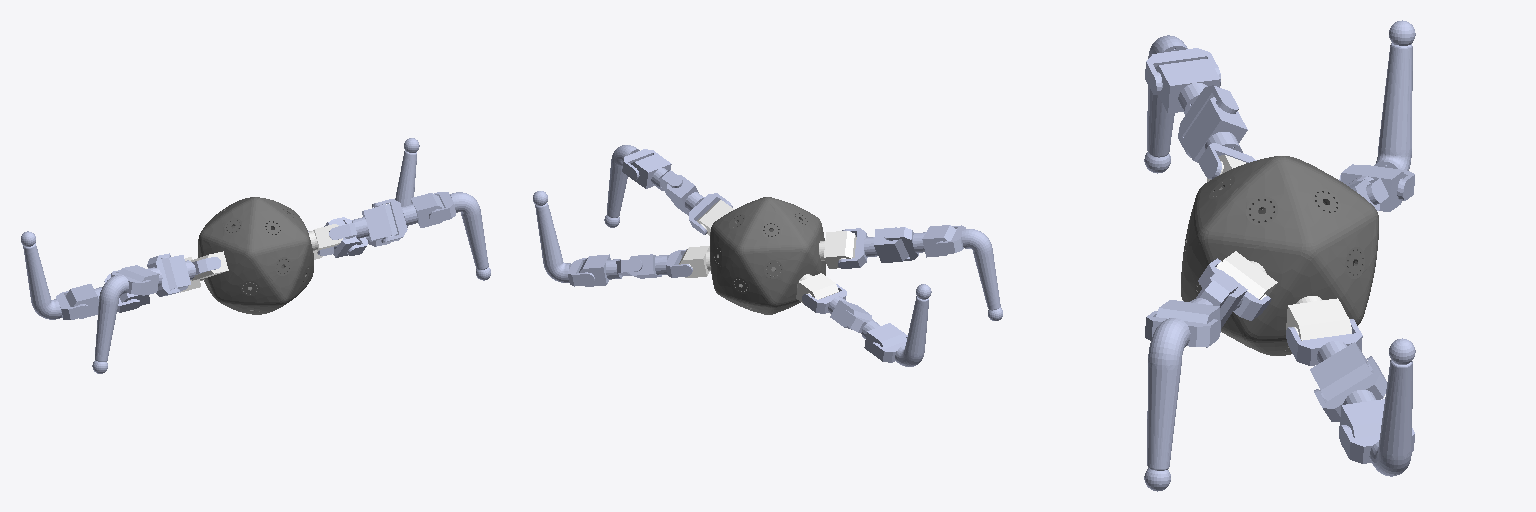
robot.urdf — mod_test:
<?xml version="1.0" encoding="utf-8"?>
<robot
  name="mod_test">
  <link
    name="base_link">
    <inertial>
      <origin
        xyz="-1.5226495220944E-06 1.5812928362389E-07 -5.05247252856584E-07"
        rpy="0 0 0" />
      <mass
        value="0.422806992949252" />
      <inertia
        ixx="0.00237499139253511"
        ixy="1.5717831530364E-08"
        ixz="1.49286265366169E-08"
        iyy="0.00237502154661776"
        iyz="-2.02154172619351E-08"
        izz="0.00237502595466009" />
    </inertial>
    <visual>
      <origin
        xyz="0 0 0"
        rpy="0 0 0" />
      <geometry>
        <mesh
          filename="package://meshes/base_link.STL" />
      </geometry>
      <material
        name="">
        <color
          rgba="0.498039215686275 0.498039215686275 0.498039215686275 1" />
      </material>
    </visual>
    <collision>
      <origin
        xyz="0 0 0"
        rpy="0 0 0" />
      <geometry>
        <mesh
          filename="package://meshes/base_link.STL" />
      </geometry>
    </collision>
  </link>
  <link
   name="110">
   <inertial>
      <origin
        xyz="0 0 0.028508"
        rpy="0 0 0" />
      <mass
        value="0.076173" />
      <inertia
        ixx="3.054E-05"
        ixy="0.000000"
        ixz="0.000000"
        iyy="2.1077E-05"
        iyz="0.000000"
        izz="2.1165E-05" />
    </inertial>
    <visual>
      <origin
        xyz="0 0 0"
        rpy="0 0 0" />
      <geometry>
        <mesh
          filename="package://meshes/1.STL" />
      </geometry>
      <material
        name="">
        <color
          rgba="1 1 1 1" />
      </material>
    </visual>
    <collision>
      <origin
        xyz="0 0 0"
        rpy="0 0 0" />
      <geometry>
        <mesh
          filename="package://meshes/1.STL" />
      </geometry>
    </collision>
  </link>
  <joint
    name="body_110"
    type="fixed">
    <origin
        xyz="0.083523 0.027138 -0.016769"
        rpy="3.141593 -1.382126 0.314159" />
    <parent
      link="base_link" />
    <child
      link="110" />
    <axis
      xyz="0 0 0" />
  </joint>
  <link
    name="111">
    <inertial>
      <origin
        xyz="0.060018 -1.4108E-06 1.4108E-06"
        rpy="0 0 0" />
    <mass
        value="0.10689" />
      <inertia
        ixx="3.2684e-05"
        ixy="-2.5662e-09"
        ixz="2.5662e-09"
        iyy="9.1229e-05"
        iyz="4.0975e-06"
        izz="7.7485e-05" />
    </inertial>
    <visual>
      <origin
        xyz="0 0 0"
        rpy="0 0 0" />
      <geometry>
        <mesh
          filename="package://meshes/module1.STL" />
      </geometry>
      <material
        name="">
        <color
          rgba="0.79216 0.81961 0.93333 1" />
      </material>
    </visual>
    <collision>
      <origin
        xyz="0 0 0"
        rpy="0 0 0" />
      <geometry>
        <mesh
          filename="package://meshes/module1.STL" />
      </geometry>
    </collision>
  </link>
  <joint
    name="110_111"
    type="revolute">
    <origin
      xyz="0 0 0.04"
      rpy="-1.558 -1.5708 -0.012835" />
    <parent
      link="110" />
    <child
      link="111" />
    <axis
      xyz="0 0 1" />
    <limit
      lower="-6.28"
      upper="6.28"
      effort="10"
      velocity="100" />
  </joint>
  <link
    name="112">
    <inertial>
      <origin
        xyz="0.060018 -1.4108E-06 1.4108E-06"
        rpy="0 0 0" />
    <mass
        value="0.10689" />
      <inertia
        ixx="3.2684e-05"
        ixy="-2.5662e-09"
        ixz="2.5662e-09"
        iyy="9.1229e-05"
        iyz="-4.0975e-06"
        izz="7.7485e-05" />
    </inertial>
    <visual>
      <origin
        xyz="0 0 0"
        rpy="0 0 0" />
      <geometry>
        <mesh
          filename="package://meshes/module5.STL" />
      </geometry>
      <material
        name="">
        <color
          rgba="0.79216 0.81961 0.93333 1" />
      </material>
    </visual>
    <collision>
      <origin
        xyz="0 0 0"
        rpy="0 0 0" />
      <geometry>
        <mesh
          filename="package://meshes/module5.STL" />
      </geometry>
    </collision>
  </link>
  <joint
    name="111_112"
    type="revolute">
    <origin
      xyz="0.0816 0 0"
      rpy="0.523599 0 0" />
    <parent
      link="111" />
    <child
      link="112" />
    <axis
      xyz="0 0 1" />
    <limit
      lower="-6.28"
      upper="6.28"
      effort="10"
      velocity="100" />
  </joint>
  <link
    name="113">
    <inertial>
      <origin
        xyz="0.051733 -0.042281 -1.3878E-17"
        rpy="0 0 0" />
    <mass
        value="0.12059" />
      <inertia
        ixx="0.00025425"
        ixy="4.8319E-05"
        ixz="0"
        iyy="5.0194E-05"
        iyz="-3.3141E-21"
        izz="0.00027482" />
    </inertial>
    <visual>
      <origin
        xyz="0 0 0"
        rpy="0 0 0" />
      <geometry>
        <mesh
          filename="package://meshes/leg.STL" />
      </geometry>
      <material
        name="">
        <color
          rgba="0.79216 0.81961 0.93333 1" />
      </material>
    </visual>
    <collision>
      <origin
        xyz="0 0 0"
        rpy="0 0 0" />
      <geometry>
        <mesh
          filename="package://meshes/leg.STL" />
      </geometry>
    </collision>
  </link>
  <joint
    name="112_113"
    type="revolute">
    <origin
      xyz="0.0816 0 0"
      rpy="2.617994 0 0" />
    <parent
      link="112" />
    <child
      link="113" />
    <axis
      xyz="0 0 1" />
    <limit
      lower="-6.28"
      upper="6.28"
      effort="10"
      velocity="100" />
  </joint>
  <link
   name="60">
   <inertial>
      <origin
        xyz="0 0 0.028508"
        rpy="0 0 0" />
      <mass
        value="0.076173" />
      <inertia
        ixx="3.054E-05"
        ixy="-0.000000"
        ixz="-0.000000"
        iyy="2.1077E-05"
        iyz="-0.000000"
        izz="2.1165E-05" />
    </inertial>
    <visual>
      <origin
        xyz="0 0 0"
        rpy="0 0 0" />
      <geometry>
        <mesh
          filename="package://meshes/1.STL" />
      </geometry>
      <material
        name="">
        <color
          rgba="1 1 1 1" />
      </material>
    </visual>
    <collision>
      <origin
        xyz="0 0 0"
        rpy="0 0 0" />
      <geometry>
        <mesh
          filename="package://meshes/1.STL" />
      </geometry>
    </collision>
  </link>
  <joint
    name="body_60"
    type="fixed">
    <origin
        xyz="0.083523 -0.027138 0.016769"
        rpy="-1.206006 1.017234 -1.570859" />
    <parent
      link="base_link" />
    <child
      link="60" />
    <axis
      xyz="0 0 0" />
  </joint>
  <link
    name="61">
    <inertial>
      <origin
        xyz="0.060018 -1.4108E-06 1.4108E-06"
        rpy="0 0 0" />
    <mass
        value="0.10689" />
      <inertia
        ixx="3.2684e-05"
        ixy="-2.5662e-09"
        ixz="2.5662e-09"
        iyy="8.4132e-05"
        iyz="-2.1275e-13"
        izz="8.4583e-05" />
    </inertial>
    <visual>
      <origin
        xyz="0 0 0"
        rpy="0 0 0" />
      <geometry>
        <mesh
          filename="package://meshes/module3.STL" />
      </geometry>
      <material
        name="">
        <color
          rgba="0.79216 0.81961 0.93333 1" />
      </material>
    </visual>
    <collision>
      <origin
        xyz="0 0 0"
        rpy="0 0 0" />
      <geometry>
        <mesh
          filename="package://meshes/module3.STL" />
      </geometry>
    </collision>
  </link>
  <joint
    name="60_61"
    type="revolute">
    <origin
      xyz="0 0 0.04"
      rpy="-1.558 -1.5708 -0.012835" />
    <parent
      link="60" />
    <child
      link="61" />
    <axis
      xyz="0 0 1" />
    <limit
      lower="-6.28"
      upper="6.28"
      effort="10"
      velocity="100" />
  </joint>
  <link
    name="62">
    <inertial>
      <origin
        xyz="0.060018 -1.4108E-06 1.4108E-06"
        rpy="0 0 0" />
    <mass
        value="0.10689" />
      <inertia
        ixx="3.2241e-05"
        ixy="3.5298e-07"
        ixz="2.0781e-07"
        iyy="8.5969e-05"
        iyz="-3.9192e-06"
        izz="8.1482e-05" />
    </inertial>
    <visual>
      <origin
        xyz="0 0 0"
        rpy="0 0 0" />
      <geometry>
        <mesh
          filename="package://meshes/module4.STL" />
      </geometry>
      <material
        name="">
        <color
          rgba="0.79216 0.81961 0.93333 1" />
      </material>
    </visual>
    <collision>
      <origin
        xyz="0 0 0"
        rpy="0 0 0" />
      <geometry>
        <mesh
          filename="package://meshes/module4.STL" />
      </geometry>
    </collision>
  </link>
  <joint
    name="61_62"
    type="revolute">
    <origin
      xyz="0.0816 0 0"
      rpy="1.570796 0 0" />
    <parent
      link="61" />
    <child
      link="62" />
    <axis
      xyz="0 0 1" />
    <limit
      lower="-6.28"
      upper="6.28"
      effort="10"
      velocity="100" />
  </joint>
  <link
    name="63">
    <inertial>
      <origin
        xyz="0.051733 -0.042281 -1.3878E-17"
        rpy="0 0 0" />
    <mass
        value="0.12059" />
      <inertia
        ixx="0.00025425"
        ixy="4.8319E-05"
        ixz="0"
        iyy="5.0194E-05"
        iyz="-3.3141E-21"
        izz="0.00027482" />
    </inertial>
    <visual>
      <origin
        xyz="0 0 0"
        rpy="0 0 0" />
      <geometry>
        <mesh
          filename="package://meshes/leg.STL" />
      </geometry>
      <material
        name="">
        <color
          rgba="0.79216 0.81961 0.93333 1" />
      </material>
    </visual>
    <collision>
      <origin
        xyz="0 0 0"
        rpy="0 0 0" />
      <geometry>
        <mesh
          filename="package://meshes/leg.STL" />
      </geometry>
    </collision>
  </link>
  <joint
    name="62_63"
    type="revolute">
    <origin
      xyz="0.0816 0 0"
      rpy="2.094395 0 0" />
    <parent
      link="62" />
    <child
      link="63" />
    <axis
      xyz="0 0 1" />
    <limit
      lower="-6.28"
      upper="6.28"
      effort="10"
      velocity="100" />
  </joint>
  <link
   name="90">
   <inertial>
      <origin
        xyz="0 0 0.028508"
        rpy="0 0 0" />
      <mass
        value="0.076173" />
      <inertia
        ixx="3.054E-05"
        ixy="-0.000000"
        ixz="0.000000"
        iyy="2.1077E-05"
        iyz="-0.000000"
        izz="2.1165E-05" />
    </inertial>
    <visual>
      <origin
        xyz="0 0 0"
        rpy="0 0 0" />
      <geometry>
        <mesh
          filename="package://meshes/1.STL" />
      </geometry>
      <material
        name="">
        <color
          rgba="1 1 1 1" />
      </material>
    </visual>
    <collision>
      <origin
        xyz="0 0 0"
        rpy="0 0 0" />
      <geometry>
        <mesh
          filename="package://meshes/1.STL" />
      </geometry>
    </collision>
  </link>
  <joint
    name="body_90"
    type="fixed">
    <origin
        xyz="-0.083523 -0.027138 0.016769"
        rpy="1.206006 1.017234 -1.570734" />
    <parent
      link="base_link" />
    <child
      link="90" />
    <axis
      xyz="0 0 0" />
  </joint>
  <link
    name="91">
    <inertial>
      <origin
        xyz="0.060018 -1.4108E-06 1.4108E-06"
        rpy="0 0 0" />
    <mass
        value="0.10689" />
      <inertia
        ixx="3.2684e-05"
        ixy="-2.5662e-09"
        ixz="2.5662e-09"
        iyy="8.4132e-05"
        iyz="-2.1275e-13"
        izz="8.4583e-05" />
    </inertial>
    <visual>
      <origin
        xyz="0 0 0"
        rpy="0 0 0" />
      <geometry>
        <mesh
          filename="package://meshes/module9.STL" />
      </geometry>
      <material
        name="">
        <color
          rgba="0.79216 0.81961 0.93333 1" />
      </material>
    </visual>
    <collision>
      <origin
        xyz="0 0 0"
        rpy="0 0 0" />
      <geometry>
        <mesh
          filename="package://meshes/module9.STL" />
      </geometry>
    </collision>
  </link>
  <joint
    name="90_91"
    type="revolute">
    <origin
      xyz="0 0 0.04"
      rpy="-1.558 -1.5708 -0.012835" />
    <parent
      link="90" />
    <child
      link="91" />
    <axis
      xyz="0 0 1" />
    <limit
      lower="-6.28"
      upper="6.28"
      effort="10"
      velocity="100" />
  </joint>
  <link
    name="92">
    <inertial>
      <origin
        xyz="0.060018 -1.4108E-06 1.4108E-06"
        rpy="0 0 0" />
    <mass
        value="0.10689" />
      <inertia
        ixx="3.2684e-05"
        ixy="-2.5662e-09"
        ixz="2.5662e-09"
        iyy="8.6498e-05"
        iyz="4.0975e-06"
        izz="8.2217e-05" />
    </inertial>
    <visual>
      <origin
        xyz="0 0 0"
        rpy="0 0 0" />
      <geometry>
        <mesh
          filename="package://meshes/module8.STL" />
      </geometry>
      <material
        name="">
        <color
          rgba="0.79216 0.81961 0.93333 1" />
      </material>
    </visual>
    <collision>
      <origin
        xyz="0 0 0"
        rpy="0 0 0" />
      <geometry>
        <mesh
          filename="package://meshes/module8.STL" />
      </geometry>
    </collision>
  </link>
  <joint
    name="91_92"
    type="revolute">
    <origin
      xyz="0.0816 0 0"
      rpy="4.712389 0 0" />
    <parent
      link="91" />
    <child
      link="92" />
    <axis
      xyz="0 0 1" />
    <limit
      lower="-6.28"
      upper="6.28"
      effort="10"
      velocity="100" />
  </joint>
  <link
    name="93">
    <inertial>
      <origin
        xyz="0.051733 -0.042281 -1.3878E-17"
        rpy="0 0 0" />
    <mass
        value="0.12059" />
      <inertia
        ixx="0.00025425"
        ixy="4.8319E-05"
        ixz="0"
        iyy="5.0194E-05"
        iyz="-3.3141E-21"
        izz="0.00027482" />
    </inertial>
    <visual>
      <origin
        xyz="0 0 0"
        rpy="0 0 0" />
      <geometry>
        <mesh
          filename="package://meshes/leg.STL" />
      </geometry>
      <material
        name="">
        <color
          rgba="0.79216 0.81961 0.93333 1" />
      </material>
    </visual>
    <collision>
      <origin
        xyz="0 0 0"
        rpy="0 0 0" />
      <geometry>
        <mesh
          filename="package://meshes/leg.STL" />
      </geometry>
    </collision>
  </link>
  <joint
    name="92_93"
    type="revolute">
    <origin
      xyz="0.0816 0 0"
      rpy="4.188790 0 0" />
    <parent
      link="92" />
    <child
      link="93" />
    <axis
      xyz="0 0 1" />
    <limit
      lower="-6.28"
      upper="6.28"
      effort="10"
      velocity="100" />
  </joint>
  <link
   name="130">
   <inertial>
      <origin
        xyz="0 0 0.028508"
        rpy="0 0 0" />
      <mass
        value="0.076173" />
      <inertia
        ixx="3.054E-05"
        ixy="0.000000"
        ixz="0.000000"
        iyy="2.1077E-05"
        iyz="0.000000"
        izz="2.1165E-05" />
    </inertial>
    <visual>
      <origin
        xyz="0 0 0"
        rpy="0 0 0" />
      <geometry>
        <mesh
          filename="package://meshes/1.STL" />
      </geometry>
      <material
        name="">
        <color
          rgba="1 1 1 1" />
      </material>
    </visual>
    <collision>
      <origin
        xyz="0 0 0"
        rpy="0 0 0" />
      <geometry>
        <mesh
          filename="package://meshes/1.STL" />
      </geometry>
    </collision>
  </link>
  <joint
    name="body_130"
    type="fixed">
    <origin
        xyz="-0.083523 0.027138 -0.016769"
        rpy="3.141593 -1.382126 2.827433" />
    <parent
      link="base_link" />
    <child
      link="130" />
    <axis
      xyz="0 0 0" />
  </joint>
  <link
    name="131">
    <inertial>
      <origin
        xyz="0.060018 -1.4108E-06 1.4108E-06"
        rpy="0 0 0" />
    <mass
        value="0.10689" />
      <inertia
        ixx="3.2684e-05"
        ixy="-2.5662e-09"
        ixz="2.5662e-09"
        iyy="9.1229e-05"
        iyz="-4.0975e-06"
        izz="7.7485e-05" />
    </inertial>
    <visual>
      <origin
        xyz="0 0 0"
        rpy="0 0 0" />
      <geometry>
        <mesh
          filename="package://meshes/module11.STL" />
      </geometry>
      <material
        name="">
        <color
          rgba="0.79216 0.81961 0.93333 1" />
      </material>
    </visual>
    <collision>
      <origin
        xyz="0 0 0"
        rpy="0 0 0" />
      <geometry>
        <mesh
          filename="package://meshes/module11.STL" />
      </geometry>
    </collision>
  </link>
  <joint
    name="130_131"
    type="revolute">
    <origin
      xyz="0 0 0.04"
      rpy="-1.558 -1.5708 -0.012835" />
    <parent
      link="130" />
    <child
      link="131" />
    <axis
      xyz="0 0 1" />
    <limit
      lower="-6.28"
      upper="6.28"
      effort="10"
      velocity="100" />
  </joint>
  <link
    name="132">
    <inertial>
      <origin
        xyz="0.060018 -1.4108E-06 1.4108E-06"
        rpy="0 0 0" />
    <mass
        value="0.10689" />
      <inertia
        ixx="3.2684e-05"
        ixy="-2.5662e-09"
        ixz="2.5662e-09"
        iyy="9.1229e-05"
        iyz="4.0975e-06"
        izz="7.7485e-05" />
    </inertial>
    <visual>
      <origin
        xyz="0 0 0"
        rpy="0 0 0" />
      <geometry>
        <mesh
          filename="package://meshes/module7.STL" />
      </geometry>
      <material
        name="">
        <color
          rgba="0.79216 0.81961 0.93333 1" />
      </material>
    </visual>
    <collision>
      <origin
        xyz="0 0 0"
        rpy="0 0 0" />
      <geometry>
        <mesh
          filename="package://meshes/module7.STL" />
      </geometry>
    </collision>
  </link>
  <joint
    name="131_132"
    type="revolute">
    <origin
      xyz="0.0816 0 0"
      rpy="5.759587 0 0" />
    <parent
      link="131" />
    <child
      link="132" />
    <axis
      xyz="0 0 1" />
    <limit
      lower="-6.28"
      upper="6.28"
      effort="10"
      velocity="100" />
  </joint>
  <link
    name="133">
    <inertial>
      <origin
        xyz="0.051733 -0.042281 -1.3878E-17"
        rpy="0 0 0" />
    <mass
        value="0.12059" />
      <inertia
        ixx="0.00025425"
        ixy="4.8319E-05"
        ixz="0"
        iyy="5.0194E-05"
        iyz="-3.3141E-21"
        izz="0.00027482" />
    </inertial>
    <visual>
      <origin
        xyz="0 0 0"
        rpy="0 0 0" />
      <geometry>
        <mesh
          filename="package://meshes/leg.STL" />
      </geometry>
      <material
        name="">
        <color
          rgba="0.79216 0.81961 0.93333 1" />
      </material>
    </visual>
    <collision>
      <origin
        xyz="0 0 0"
        rpy="0 0 0" />
      <geometry>
        <mesh
          filename="package://meshes/leg.STL" />
      </geometry>
    </collision>
  </link>
  <joint
    name="132_133"
    type="revolute">
    <origin
      xyz="0.0816 0 0"
      rpy="3.665191 0 0" />
    <parent
      link="132" />
    <child
      link="133" />
    <axis
      xyz="0 0 1" />
    <limit
      lower="-6.28"
      upper="6.28"
      effort="10"
      velocity="100" />
  </joint>
  <link
    name = "ball_1">
    <inertial>
    <origin
        xyz="0 0 0"
        rpy="0 0 0" />
    <mass
        value="0" />
      <inertia
        ixx="0"
        ixy="0"
        ixz="0"
        iyy="0"
        iyz="0"
        izz="0" />
    </inertial>    <visual>
      <origin
        xyz="0 0 0"
        rpy="0 0 0" />
     <geometry>
        <sphere radius = "0.01"/>
      </geometry>
      <material
        name="green">
        <color
          rgba="0.22 1 0.4 1" />
      </material>
    </visual>
  </link>
  <joint
  name="113_ball1"
  type="fixed">
    <origin
      xyz="0.0612 -0.13431 0"
      rpy="0 0 0" />
    <parent
      link="113" />
    <child
      link="ball_1" />
    <axis
      xyz="0 0 0" />
  </joint>
  <link
    name = "ball_2">
    <inertial>
    <origin
        xyz="0 0 0"
        rpy="0 0 0" />
    <mass
        value="0" />
      <inertia
        ixx="0"
        ixy="0"
        ixz="0"
        iyy="0"
        iyz="0"
        izz="0" />
    </inertial>    <visual>
      <origin
        xyz="0 0 0"
        rpy="0 0 0" />
      <geometry>
        <sphere radius = "0.01"/>
      </geometry>
      <material
        name="blue">
        <color
          rgba="0.16 0.52 0.8 1" />
      </material>
    </visual>
  </link>
  <joint
  name="63_ball2"
  type="fixed">
    <origin
      xyz="0.0612 -0.13431 0"
      rpy="0 0 0" />
    <parent
      link="63" />
    <child
      link="ball_2" />
    <axis
      xyz="0 0 0" />
  </joint>
  <link
    name = "ball_3">
    <inertial>
    <origin
        xyz="0 0 0"
        rpy="0 0 0" />
    <mass
        value="0" />
      <inertia
        ixx="0"
        ixy="0"
        ixz="0"
        iyy="0"
        iyz="0"
        izz="0" />
    </inertial>    <visual>
      <origin
        xyz="0 0 0"
        rpy="0 0 0" />
     <geometry>
        <sphere radius = "0.01"/>
      </geometry>
      <material
        name="blue">
        <color
          rgba="0.16 0.52 0.8 1" />
      </material>
    </visual>
  </link>
  <joint
  name="93_ball3"
  type="fixed">
    <origin
      xyz="0.0612 -0.13431 0"
      rpy="0 0 0" />
    <parent
      link="93" />
    <child
      link="ball_3" />
    <axis
      xyz="0 0 0" />
  </joint>
  <link
    name = "ball_4">
    <inertial>
    <origin
        xyz="0 0 0"
        rpy="0 0 0" />
    <mass
        value="0" />
      <inertia
        ixx="0"
        ixy="0"
        ixz="0"
        iyy="0"
        iyz="0"
        izz="0" />
    </inertial>    <visual>
      <origin
        xyz="0 0 0"
        rpy="0 0 0" />
      <geometry>
        <sphere radius = "0.01"/>
      </geometry>
      <material
        name="yellow">
        <color
          rgba="1 1 0 1" />
      </material>
    </visual>
  </link>
  <joint
  name="133_ball4"
  type="fixed">
    <origin
      xyz="0.0612 -0.13431 0"
      rpy="0 0 0" />
    <parent
      link="133" />
    <child
      link="ball_4" />
    <axis
      xyz="0 0 0" />
  </joint>
</robot>

--- Facts derived from the render (not from the file) ---
3 views of the same robot in one strip: view 1: azimuth 30°, elevation 25°; view 2: azimuth 150°, elevation 25°; view 3: azimuth 270°, elevation 25° (orthographic).
Robot: mod_test — 21 links, 20 joints (12 revolute, 8 fixed); root link base_link; default pose: every joint at zero.
Links seen in each view (by area): view 1: base_link, 93, 133, 63, 61, 62, 91, 113, 92, 132; view 2: base_link, 93, 113, 133, 63, 91, 92, 61, 132, 62, 112, 111 (+4 smaller); view 3: base_link, 63, 113, 133, 111, 92, 93, 91, 112, 110, 62, 132 (+2 smaller).
Boxes of the visible links, x1,y1,x2,y2 form: base_link: (198,197,313,314); 93: (92,270,154,373); 133: (21,231,90,319); 63: (429,192,490,280); 61: (329,204,397,241); 62: (372,193,443,242); 91: (162,255,220,290); 113: (389,138,419,241); 92: (119,253,180,296); 132: (66,274,140,318); base_link: (710,197,825,314); 93: (933,225,1002,320); 113: (533,191,594,286); 133: (869,284,931,366); 63: (604,145,656,227); 91: (838,227,908,268); 92: (883,225,956,260); 61: (667,175,732,234); 132: (838,310,906,352); 62: (631,153,682,201); 112: (579,254,642,286); 111: (629,249,692,278); base_link: (1181,156,1378,355); 63: (1144,311,1220,491); 113: (1339,338,1415,476); 133: (1339,20,1415,200); 111: (1286,319,1373,401); 92: (1155,58,1238,157); 93: (1144,35,1220,173); 91: (1182,97,1256,179); 112: (1314,356,1386,437); 110: (1286,296,1351,340); 62: (1156,273,1238,347); 132: (1341,164,1404,211).
Size in the robot's own frame: 0.7343 by 0.2556 by 0.2045 metres.
17 mesh visuals loaded from 11 distinct referenced files (11 binary STL).